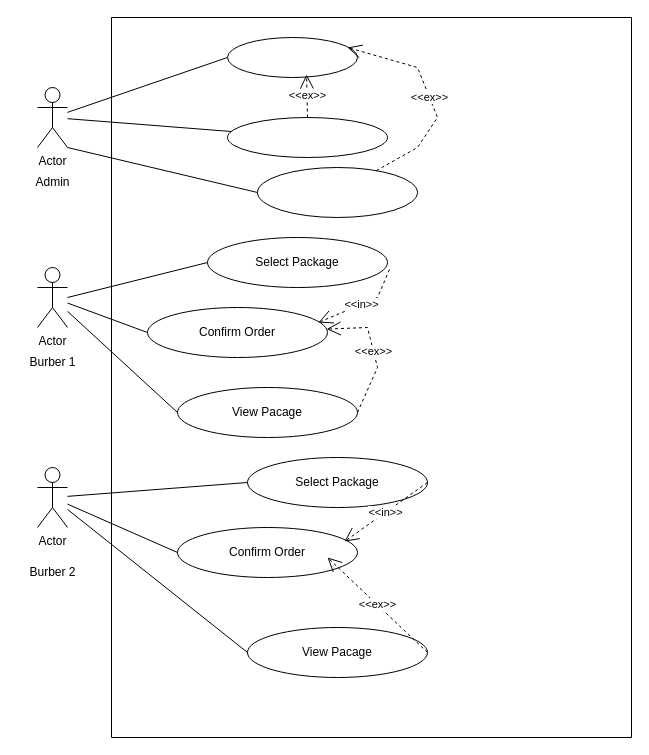
This 649x755 diagram has some shape labels left out. Each missing label, with the centre of its shape:
"Manage Package" belongs at (x=292, y=57).
"User Authentication" belongs at (x=337, y=192).
"View Record" belongs at (x=307, y=137).
